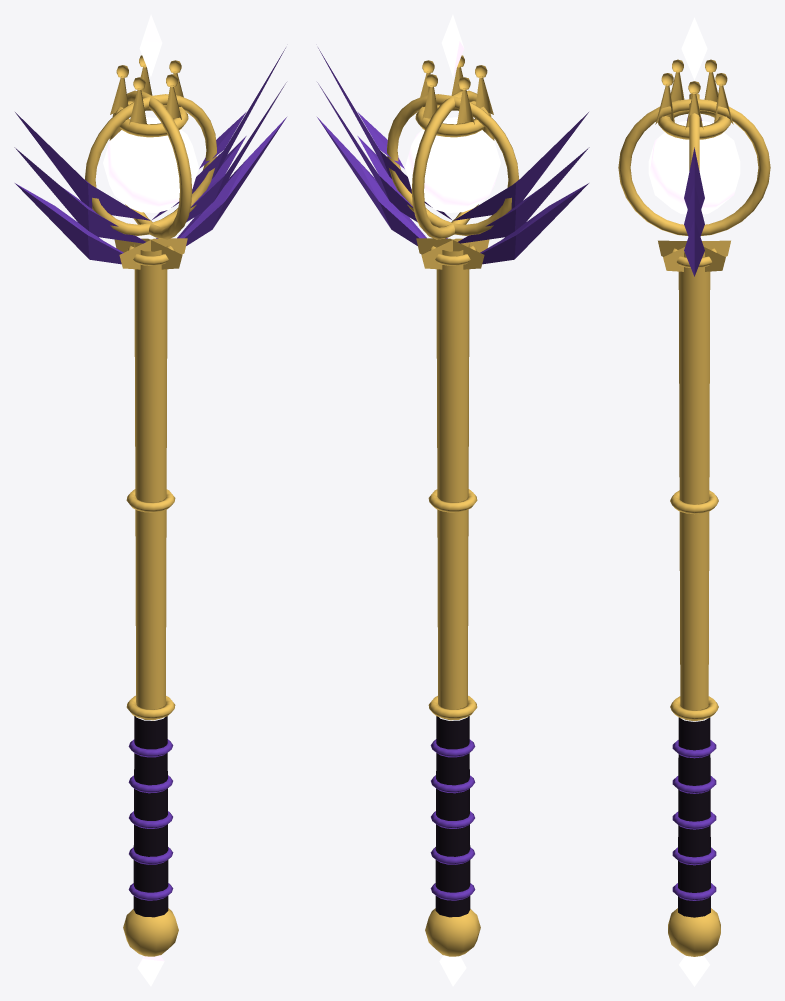
Rendered from scepter_9.glb.
3 renders of one model, left to right at view 1: azimuth 30°, elevation 25°; view 2: azimuth 150°, elevation 25°; view 3: azimuth 270°, elevation 25°, orthographic.
Visible parts, largest first — view 1: scepter_9; view 2: scepter_9; view 3: scepter_9.
Part boxes in pixels (bbox=[...]): scepter_9: bbox=[14, 14, 286, 986]; scepter_9: bbox=[317, 14, 589, 986]; scepter_9: bbox=[618, 17, 770, 986].
Bounding box in the file's own units: 0.36 × 1.22 × 0.174.
